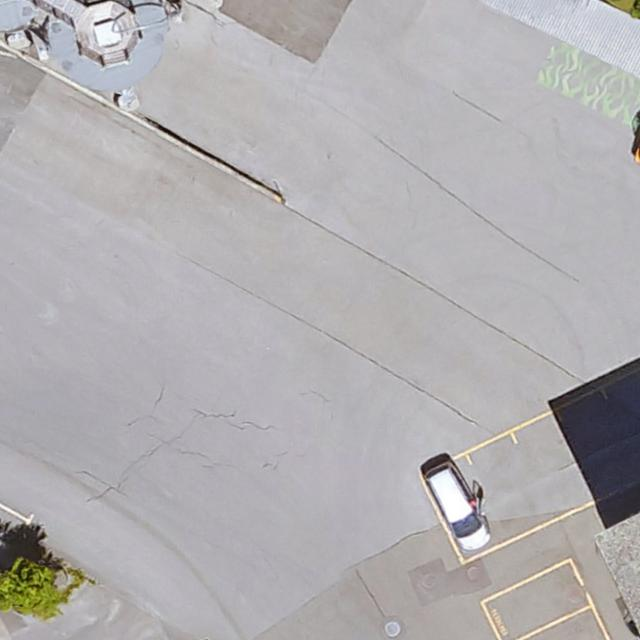tree: (0, 559, 57, 619)
